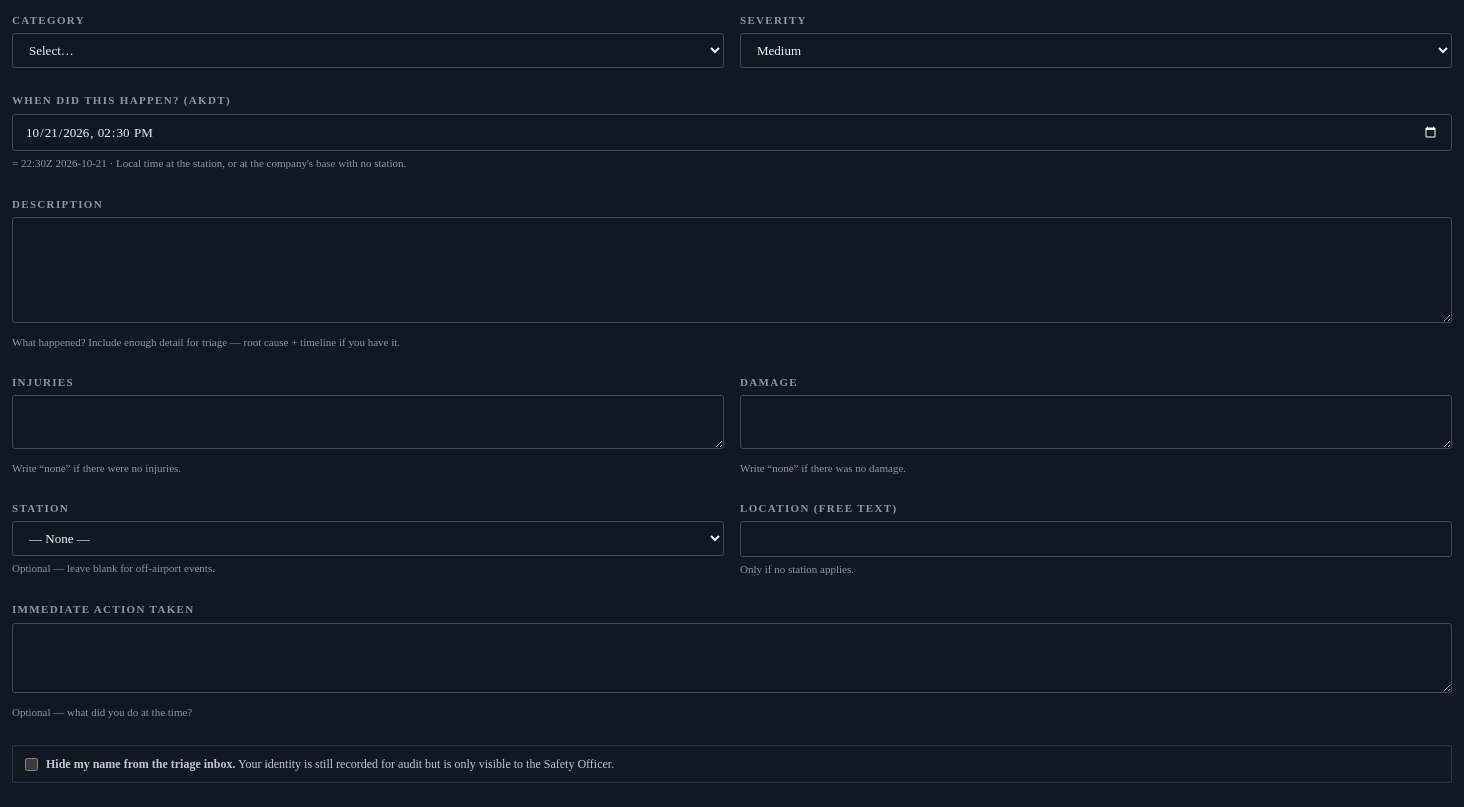
Scenario: IncidentReportForm: the time it happened › follows the station's zone when the station is a base with one
The image size is (1464, 807).
Select "PADK — Adak" in the dropdown labelled "Station" at [368, 539], box x1=12 y1=521 x2=724 y2=556
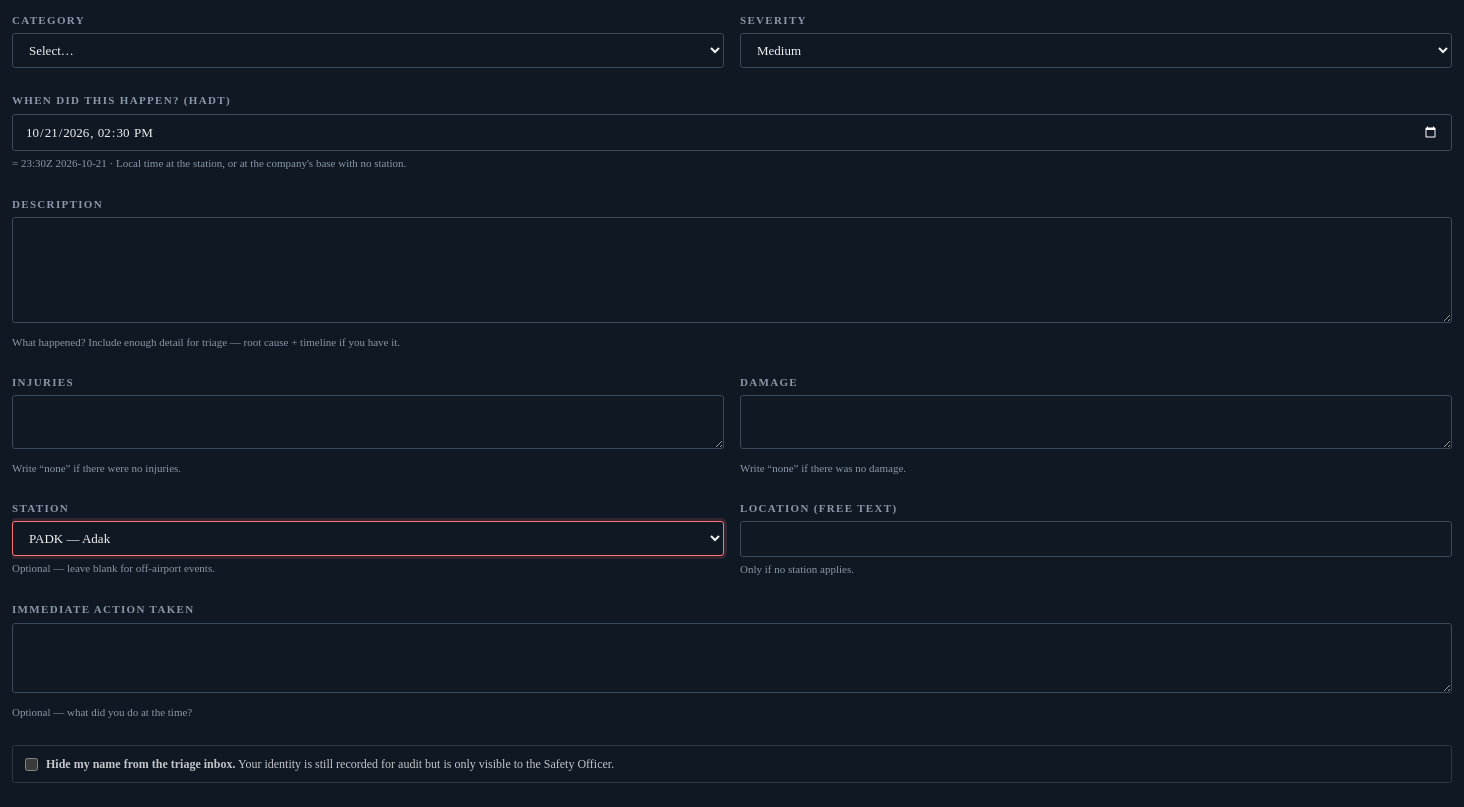
Expected: the field labelled "When did this happen? (HADT)" holds "2026-10-21T14:30", x1=12 y1=114 x2=1452 y2=151
Expected: the text "When did this happen? (HADT)" is shown, x1=12 y1=94 x2=231 y2=106
Expected: the text "= 23:30Z 2026-10-21" is shown, x1=12 y1=157 x2=406 y2=169
